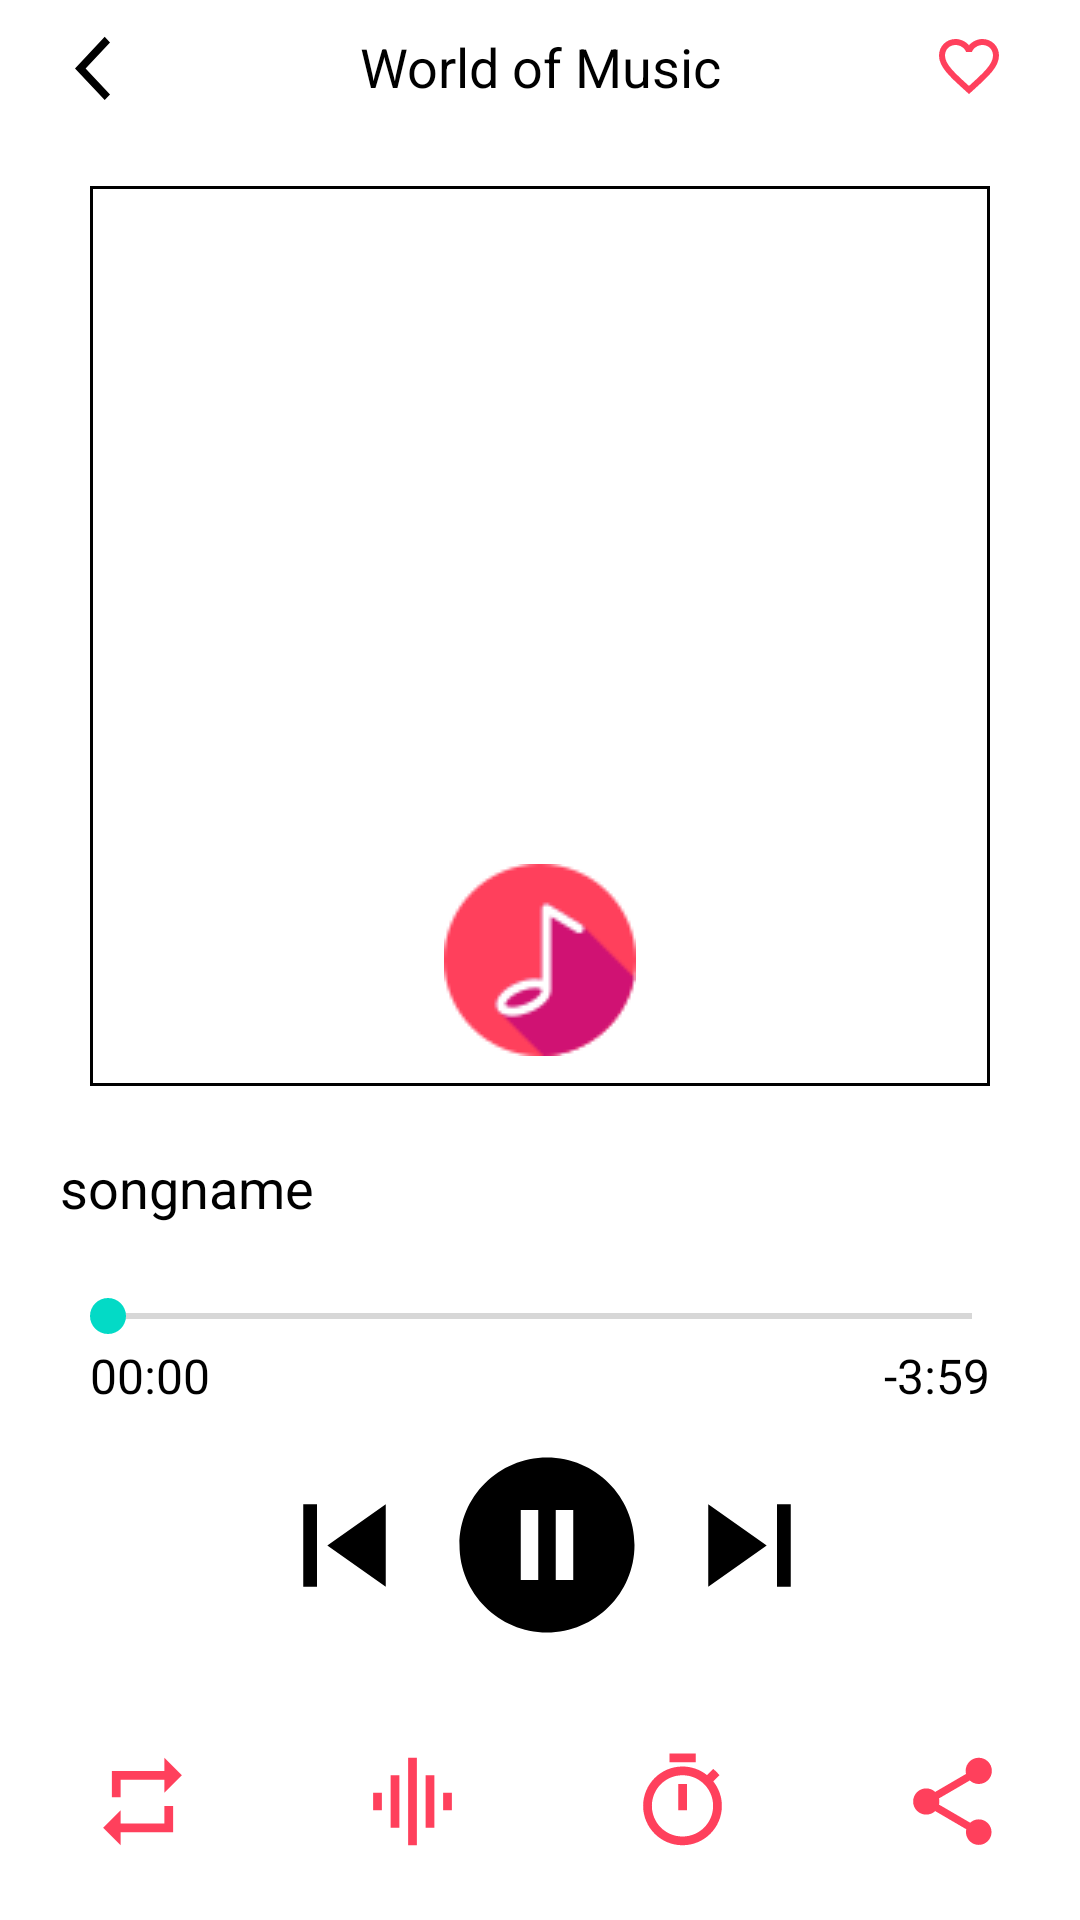

Icon bounding boxes for this 1080x1920 phone screenshot, format [x1,y1,x2,y2]:
back: [75,37,110,100]
Equalizer: [373,1757,452,1846]
favorite empty: [939,39,999,94]
next: [708,1504,791,1587]
pause: [459,1457,635,1633]
previous: [303,1504,386,1587]
Repeat: [103,1758,182,1845]
Share: [913,1757,992,1845]
Timer: [643,1753,722,1846]
